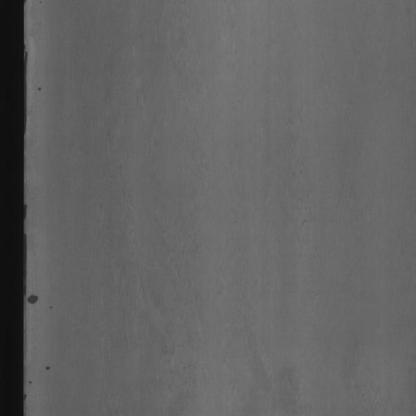oil_spot: (23, 202, 32, 290), (25, 284, 40, 315), (23, 49, 28, 141)
